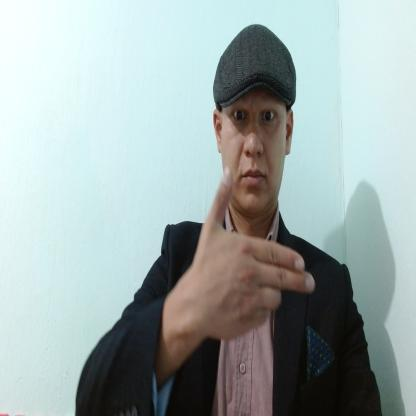H: (194, 166, 315, 341)
